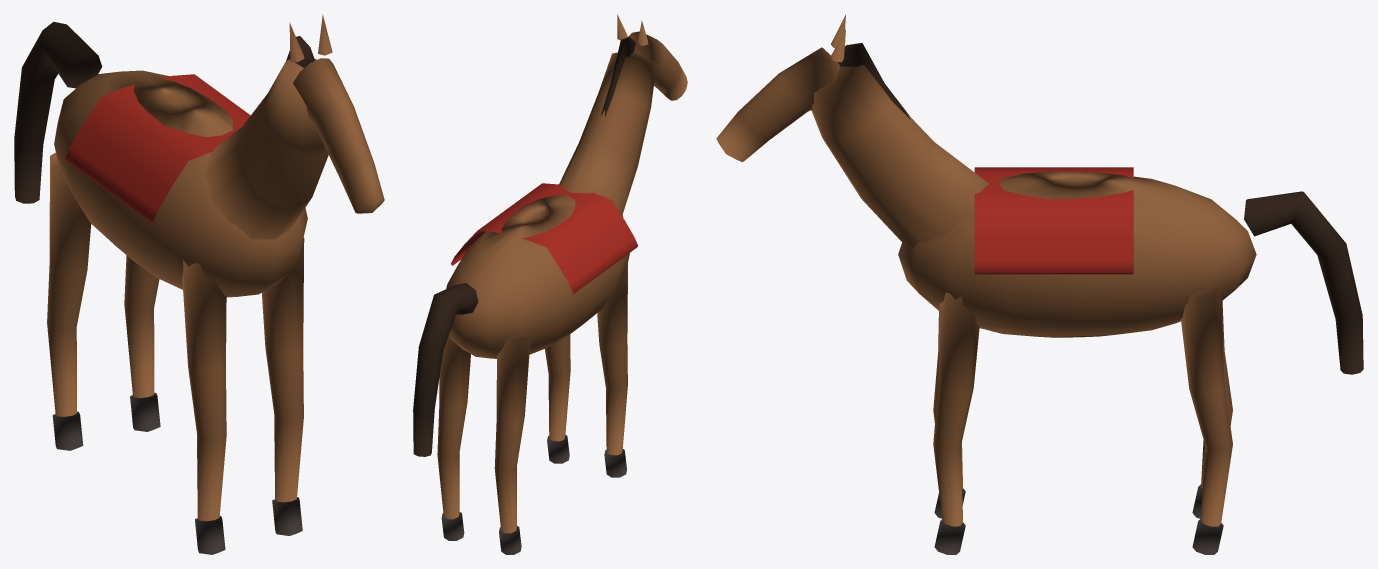
The model's file is horse.glb.
The picture shows the model from 3 angles, left to right: view 1: azimuth 30°, elevation 25°; view 2: azimuth 150°, elevation 25°; view 3: azimuth 270°, elevation 25°; orthographic projection. The views are drawn at different scales.
Parts seen in each view (by area): view 1: Body, Leg_FR, Leg_BR, Leg_FL, Leg_BL; view 2: Body, Leg_BR, Leg_BL, Leg_FR, Leg_FL; view 3: Body, Leg_BL, Leg_FL, Leg_BR.
Boxes of the visible parts, bbox=[...] form: Body: bbox=[14, 14, 384, 297]; Leg_FR: bbox=[182, 260, 226, 554]; Leg_BR: bbox=[47, 152, 91, 450]; Leg_FL: bbox=[262, 237, 304, 535]; Leg_BL: bbox=[124, 255, 160, 431]; Body: bbox=[413, 14, 687, 456]; Leg_BR: bbox=[494, 334, 530, 554]; Leg_BL: bbox=[437, 335, 470, 540]; Leg_FR: bbox=[597, 264, 627, 477]; Leg_FL: bbox=[545, 334, 570, 463]; Body: bbox=[716, 14, 1363, 374]; Leg_BL: bbox=[1181, 287, 1232, 554]; Leg_FL: bbox=[933, 292, 979, 554]; Leg_BR: bbox=[1192, 301, 1232, 518].
Size of the model in its own units: 0.7783 by 2.56 by 2.91.
